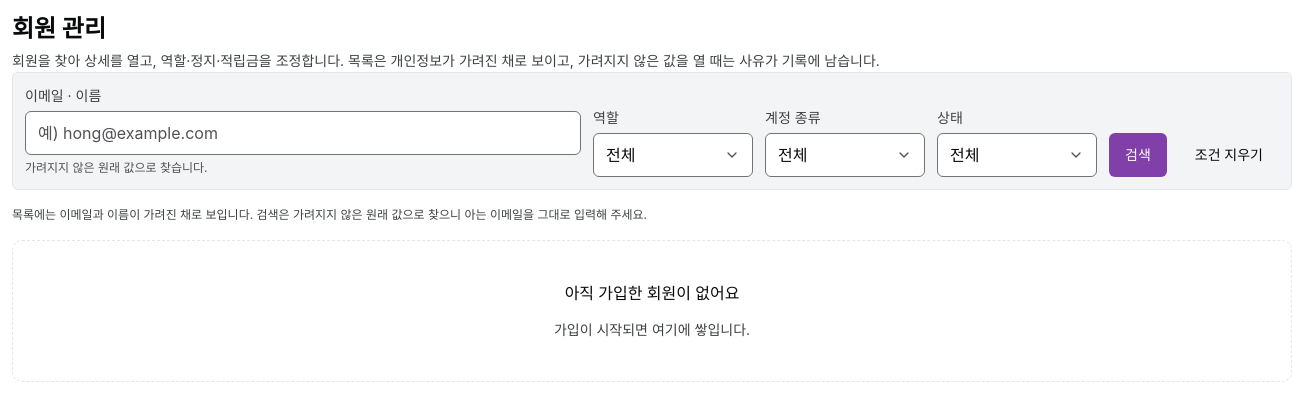
목록 (F1 · F6) › tells an empty list apart from a list nothing matched
Expected: the text "아직 가입한 회원이 없어요" is shown, x1=565 y1=281 x2=739 y2=307
Type "nobody" into the search field labelled "이메일 · 이름".
click(303, 133); type("nobody")  # box x1=25 y1=111 x2=581 y2=155
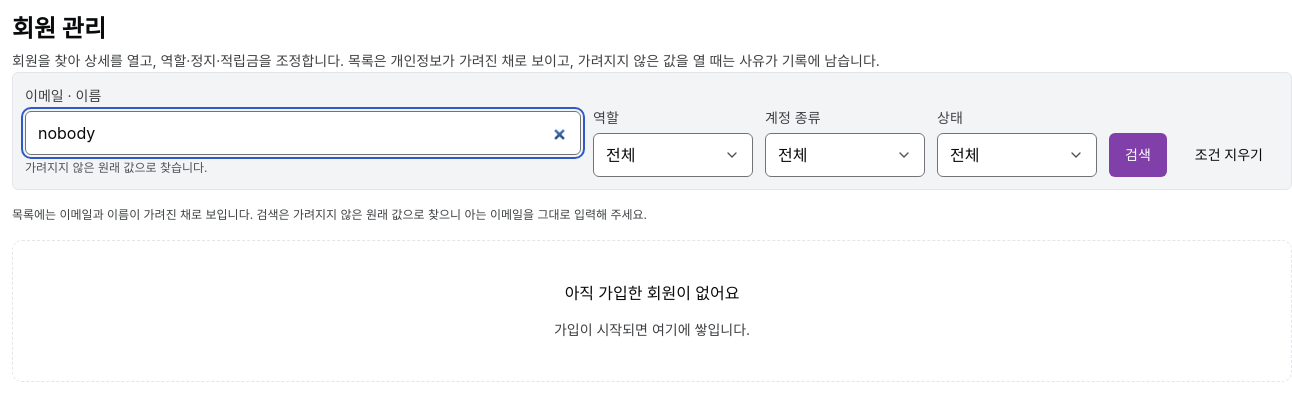
Click the button "검색".
click(1138, 155)  # box x1=1109 y1=133 x2=1167 y2=177
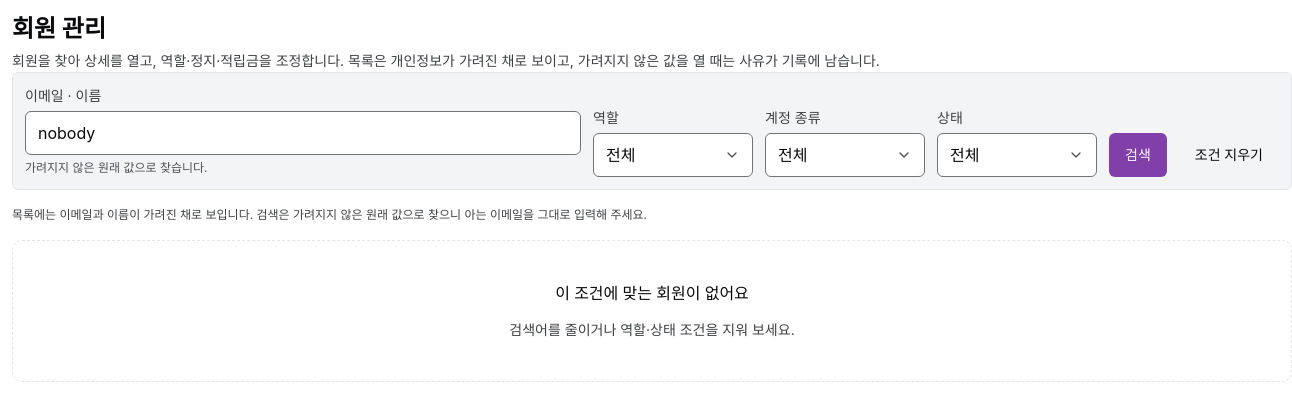
Expected: the text "이 조건에 맞는 회원이 없어요" is shown, x1=555 y1=281 x2=749 y2=307
